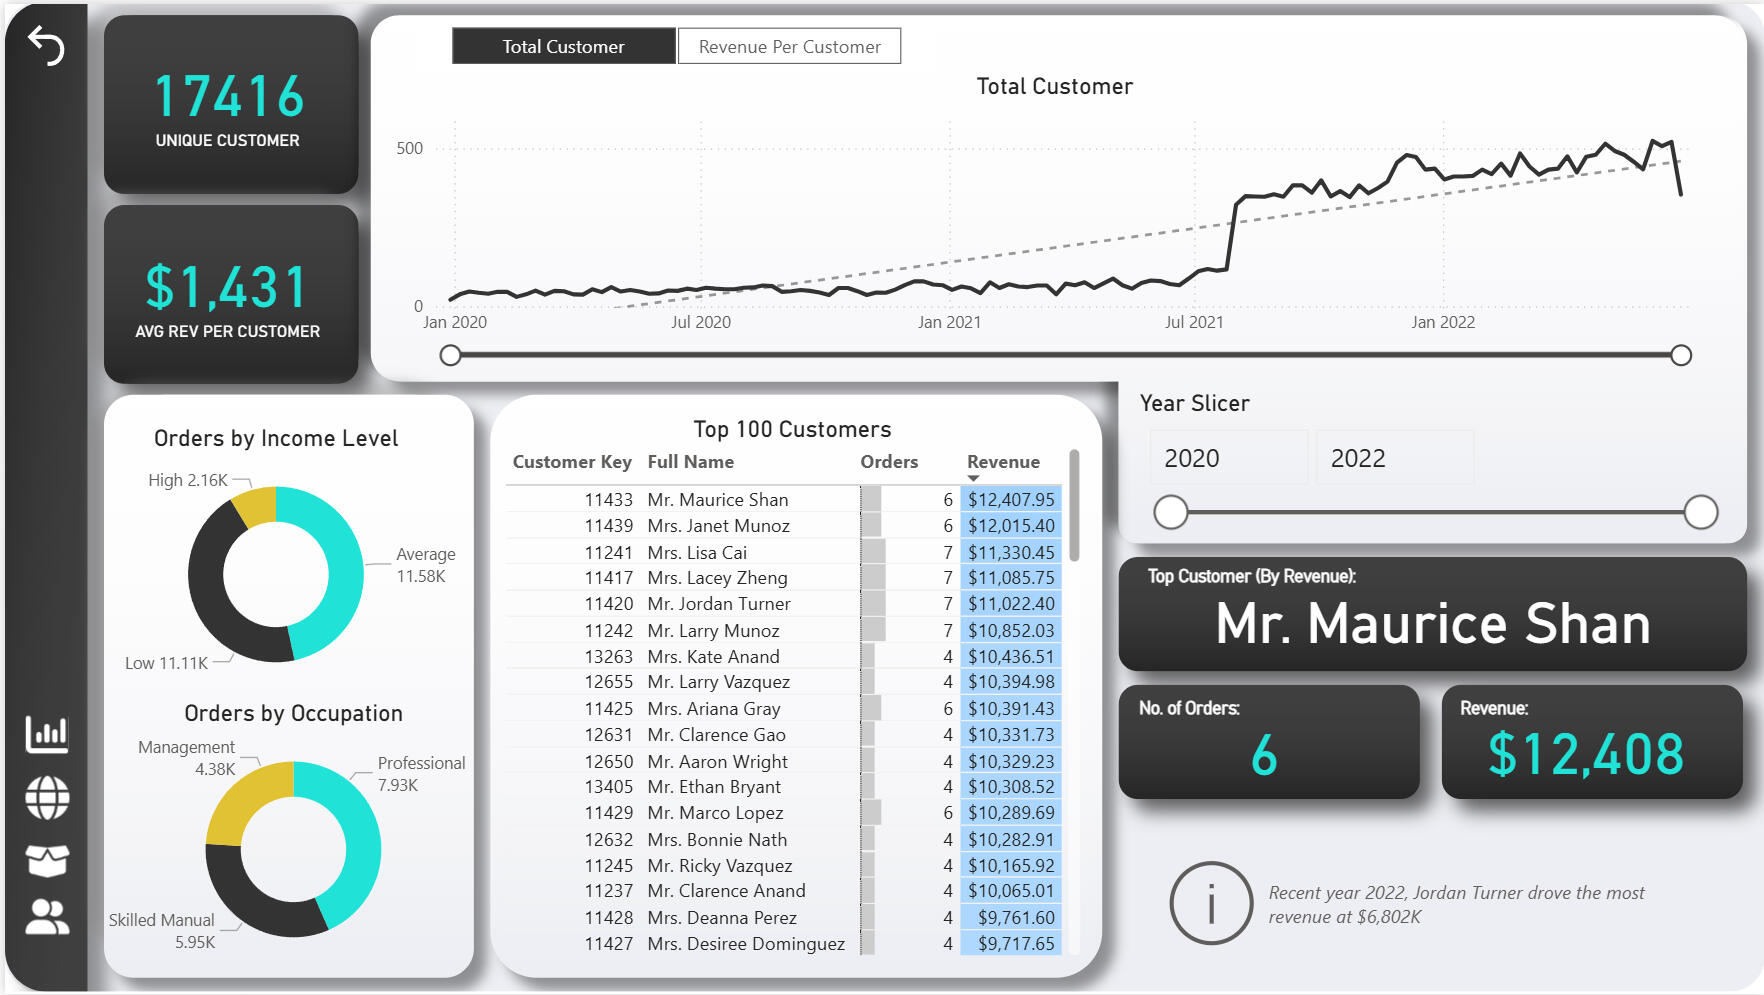

The page's visual inventory and layout, read from the dashboard file:
{"tool":"powerbi","page":{"name":"Customer Detail","canvas":[1280,720],"ordinal":3},"visuals":[{"type":"card","fields":{"Values":["Measure Table.Total Customer"]},"box":[78,19,168,100],"z":0},{"type":"actionButton","box":[10.7,511.6,40,39.2],"z":0,"group":"g1"},{"type":"card","fields":{"Values":["Measure Table.Average Revenue Per Customer"]},"box":[63,158,199,100],"z":1000},{"type":"actionButton","box":[10.7,557.4,40,40],"z":1000,"group":"g1"},{"type":"lineChart","fields":{"Y":["Measure Table.Total Customer"],"Category":["Calendar Lookup.Date Hierarchy.Start of Year","Calendar Lookup.Date Hierarchy.Start of Month","Calendar Lookup.Date Hierarchy.Start of Week","Calendar Lookup.Date Hierarchy.Date"]},"box":[279,49,969,217],"z":2000},{"type":"actionButton","box":[10.7,643.3,40,40],"z":2000,"group":"g1"},{"type":"donutChart","title":"Orders by Income Level","fields":{"Category":["Customer Lookup.Income Level"],"Y":["Measure Table.Total Orders"]},"box":[57,305,280,200],"z":3000},{"type":"actionButton","box":[10.7,603.3,40,40],"z":3000,"group":"g1"},{"type":"donutChart","title":"Orders by Occupation","fields":{"Y":["Measure Table.Total Orders"],"Category":["Customer Lookup.Occupation"]},"box":[70,505,280,200],"z":4000},{"type":"tableEx","title":"Top 100 Customers","fields":{"Values":["Customer Lookup.CustomerKey","Customer Lookup.Full Name","Measure Table.Total Orders","Measure Table.Total Revenue"]},"box":[358,299,429,398],"z":5000},{"type":"card","fields":{"Values":["Measure Table.Full Name (Customer Detail)"]},"box":[839,415,400,60],"z":6000},{"type":"card","fields":{"Values":["Measure Table.Total Orders (Customer Detail)"]},"box":[820,517,192,49],"z":7000},{"type":"card","fields":{"Values":["Measure Table.Total Revenue (Customer Detail)"]},"box":[1054,511,193,60],"z":8000},{"type":"textbox","box":[826,401,228,39],"z":9000},{"type":"textbox","box":[1054,497,172,30],"z":10000},{"type":"textbox","box":[820,497,172,39],"z":11000},{"type":"slicer","title":"Year Slicer","fields":{"Values":["Calendar Lookup.Year"]},"box":[820,280,435,110],"z":12000},{"type":"actionButton","box":[838.7,615.5,401,77],"z":13000},{"type":"actionButton","box":[10,10,44.4,40],"z":14000},{"type":"slicer","fields":{"Values":["Customer Metric Selection.Customer Metric Selection"]},"box":[299,10,377,39],"z":15000},{"type":"group","id":"g1","title":"Nav Button","box":[10.7,511.6,40,171.2],"z":16000}]}

Visuals, with their boxes in screenshot pixels (x1, y1, x2, y2), scaled from the page's 1280x720 canvas onto the 1764x995 screenshot:
card - Measure Table.Total Customer: {"x1": 107, "y1": 26, "x2": 339, "y2": 164}
actionButton: {"x1": 15, "y1": 707, "x2": 70, "y2": 761}
card - Measure Table.Average Revenue Per Customer: {"x1": 87, "y1": 218, "x2": 361, "y2": 357}
actionButton: {"x1": 15, "y1": 770, "x2": 70, "y2": 826}
lineChart - Measure Table.Total Customer x Calendar Lookup.Date Hierarchy.Start of Year: {"x1": 384, "y1": 68, "x2": 1720, "y2": 368}
actionButton: {"x1": 15, "y1": 889, "x2": 70, "y2": 944}
"Orders by Income Level" donutChart: {"x1": 79, "y1": 421, "x2": 464, "y2": 698}
actionButton: {"x1": 15, "y1": 834, "x2": 70, "y2": 889}
"Orders by Occupation" donutChart: {"x1": 96, "y1": 698, "x2": 482, "y2": 974}
"Top 100 Customers" tableEx: {"x1": 493, "y1": 413, "x2": 1085, "y2": 963}
card - Measure Table.Full Name (Customer Detail): {"x1": 1156, "y1": 574, "x2": 1707, "y2": 656}
card - Measure Table.Total Orders (Customer Detail): {"x1": 1130, "y1": 714, "x2": 1395, "y2": 782}
card - Measure Table.Total Revenue (Customer Detail): {"x1": 1453, "y1": 706, "x2": 1719, "y2": 789}
textbox: {"x1": 1138, "y1": 554, "x2": 1453, "y2": 608}
textbox: {"x1": 1453, "y1": 687, "x2": 1690, "y2": 728}
textbox: {"x1": 1130, "y1": 687, "x2": 1367, "y2": 741}
"Year Slicer" slicer: {"x1": 1130, "y1": 387, "x2": 1730, "y2": 539}
actionButton: {"x1": 1156, "y1": 851, "x2": 1708, "y2": 957}
actionButton: {"x1": 14, "y1": 14, "x2": 75, "y2": 69}
slicer - Customer Metric Selection.Customer Metric Selection: {"x1": 412, "y1": 14, "x2": 932, "y2": 68}
"Nav Button" group: {"x1": 15, "y1": 707, "x2": 70, "y2": 944}
